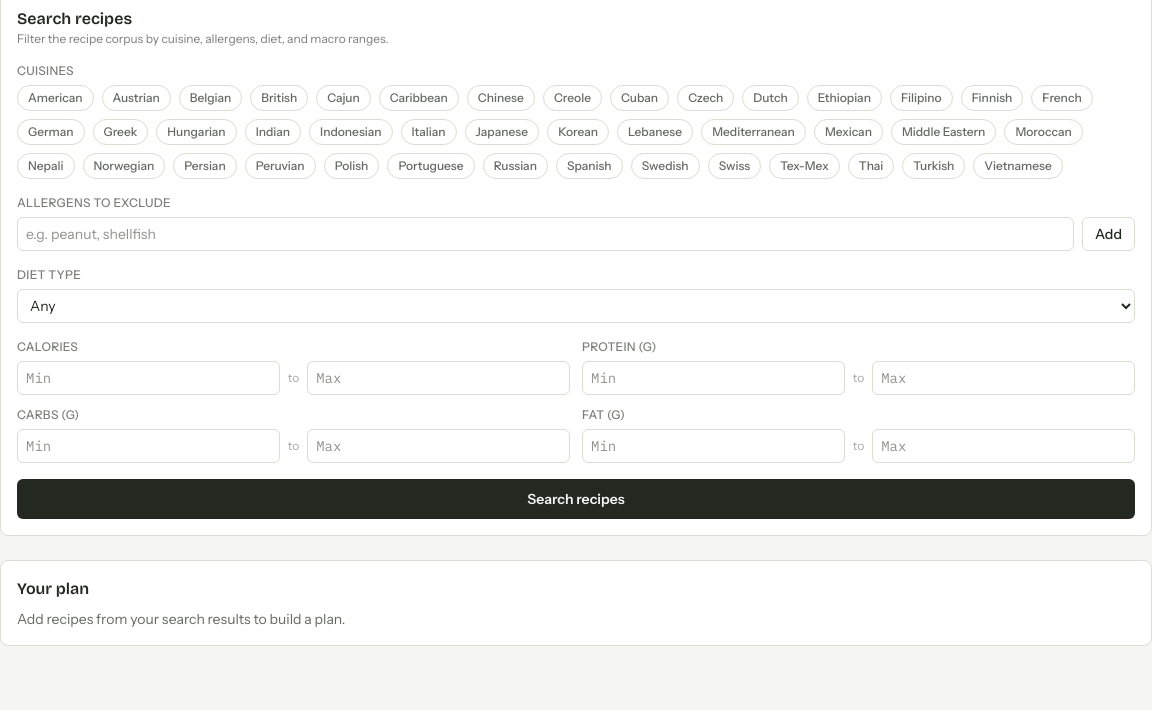
it: RecipeSearchPage › generates a shopping list from the assembled plan
The image size is (1152, 710).
Click the button "Search recipes": {"x": 576, "y": 499} [17,479,1135,519]
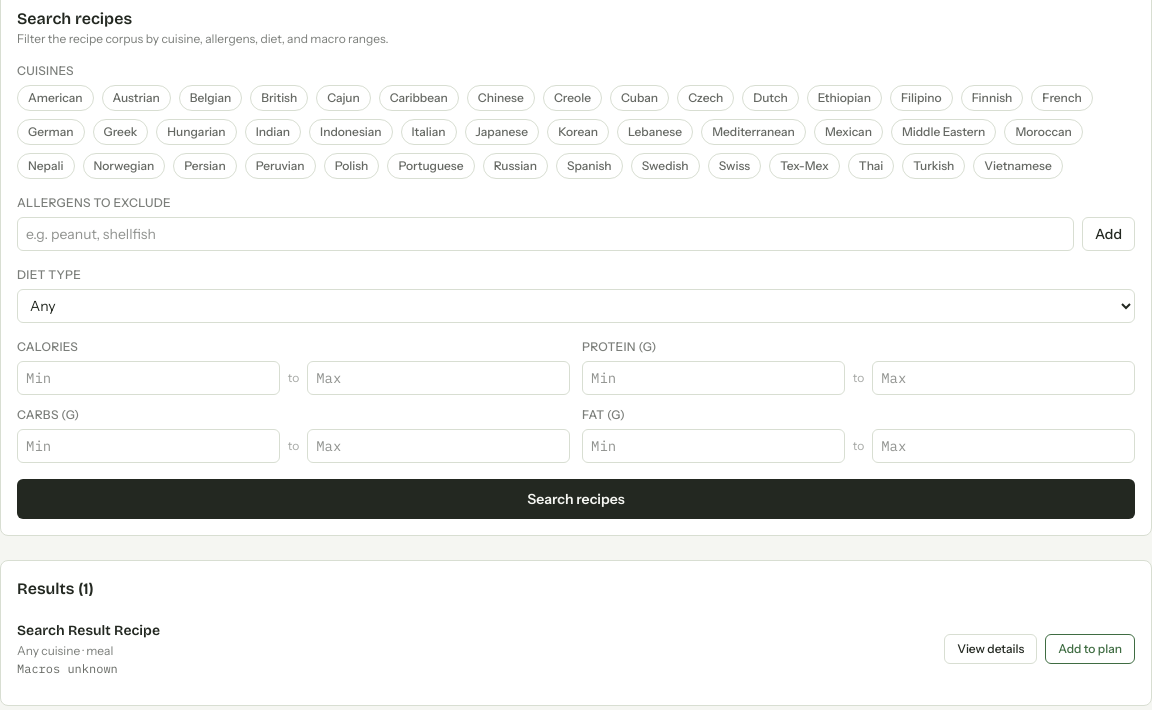
Expected: the text "Search Result Recipe" is shown, [17,621,160,641]
Click the button "Add to plan": {"x": 1090, "y": 649} [1045,634,1135,664]
(page scrolled)
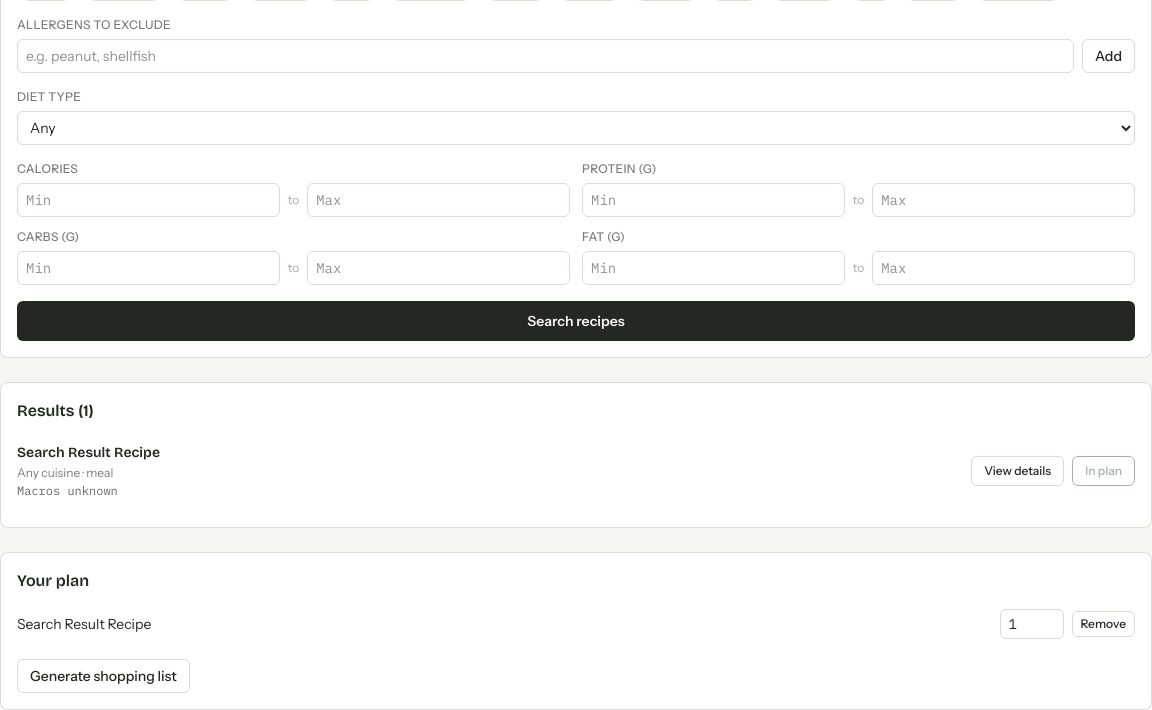
Click the button "Generate shopping list": {"x": 103, "y": 676} [17,659,190,693]
(page scrolled)
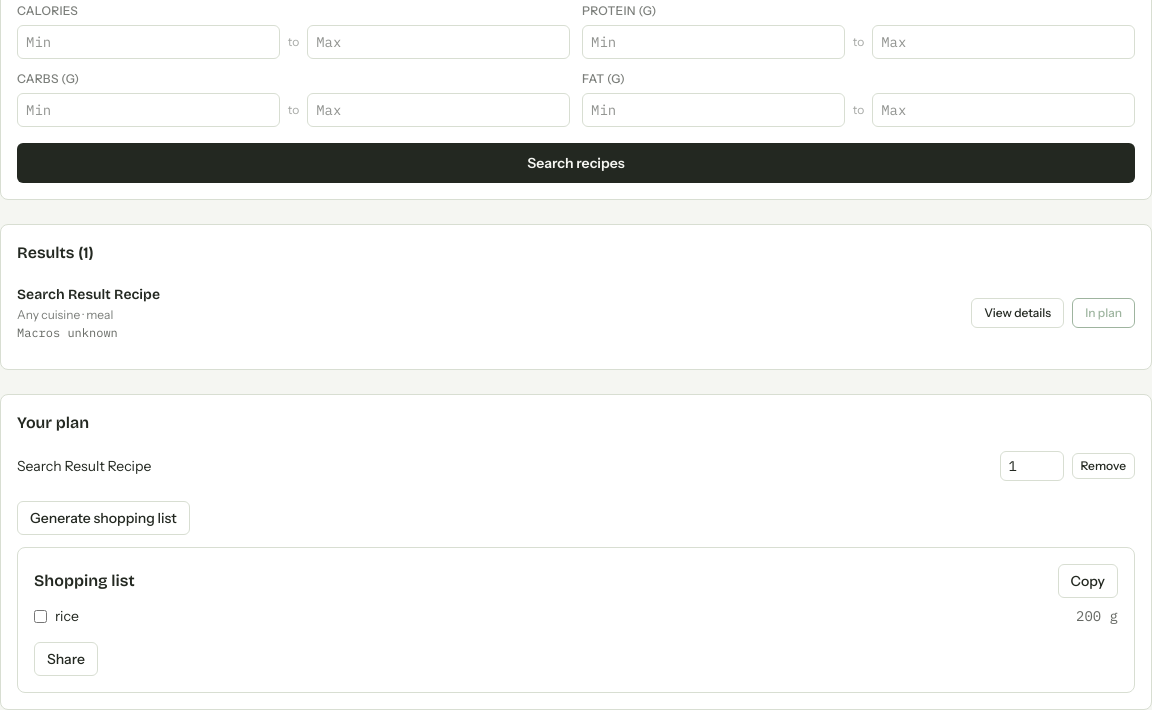
Expected: the heading "Shopping list" is shown, [34,569,135,593]
Expected: the text "rice" is shown, [55,606,79,626]
